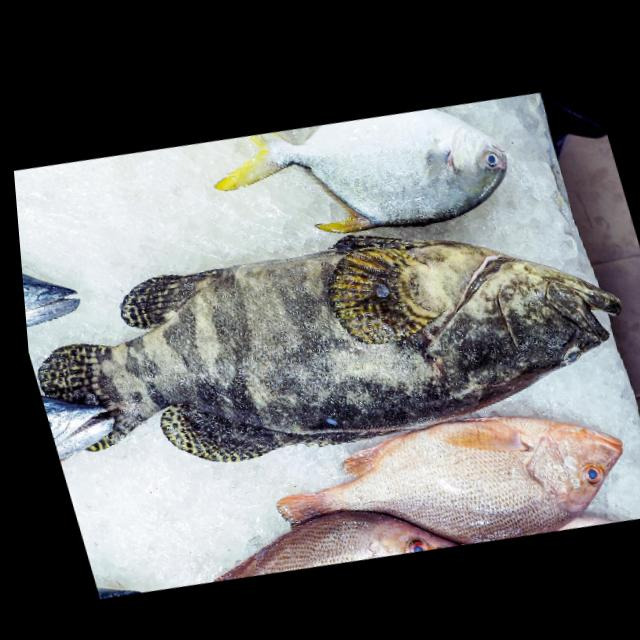Groupers: (14, 171, 640, 524)
